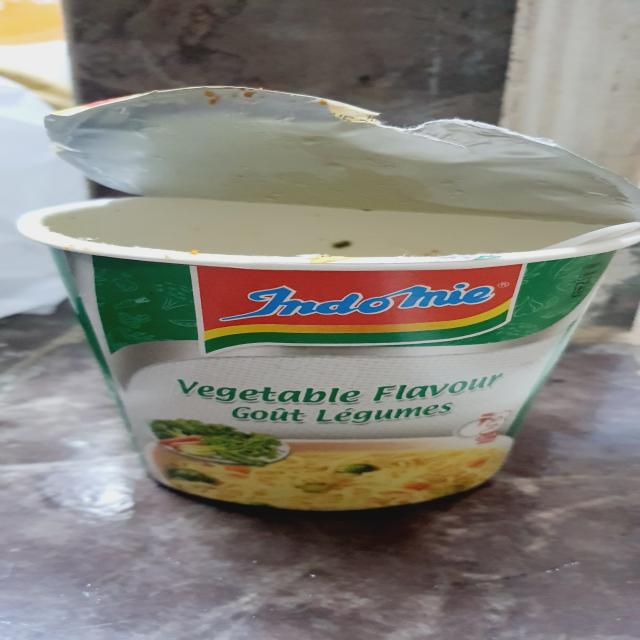cardboard: (28, 84, 637, 512)
